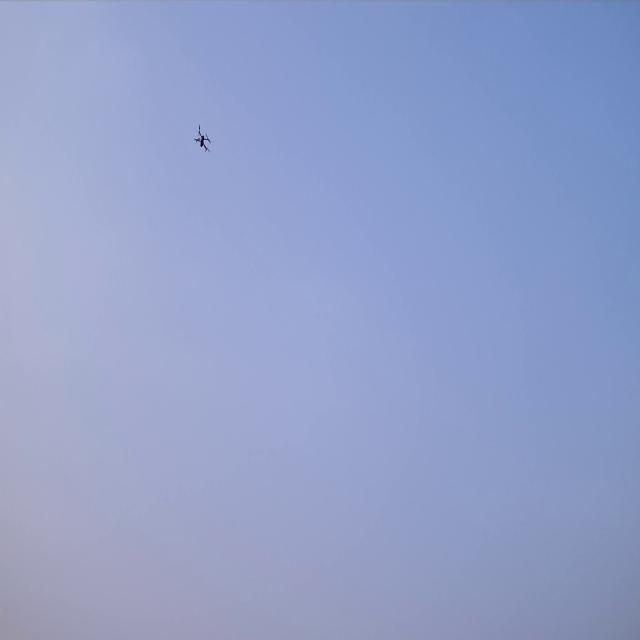UAV: (193, 123, 211, 154)
